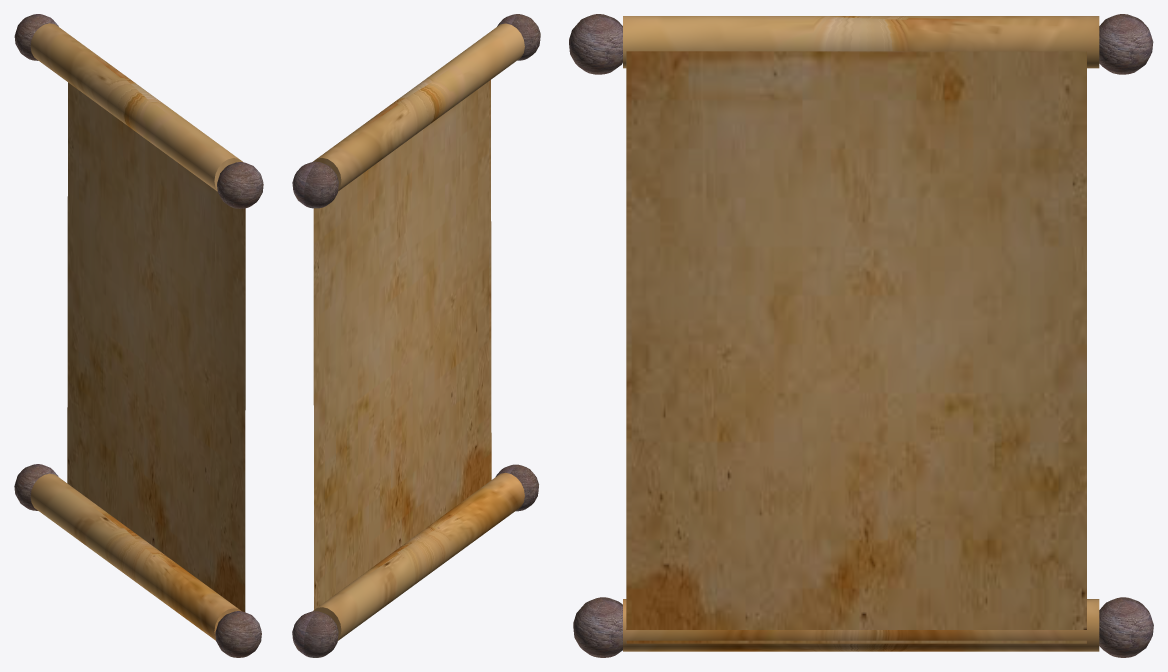
File: wall_scroll.FBX
3 views of the same model, side by side, from view 1: azimuth 30°, elevation 25°; view 2: azimuth 150°, elevation 25°; view 3: azimuth 270°, elevation 25° (orthographic). The views are drawn at different scales.
Visible parts, largest first — view 1: Plane001, Cylinder001, Cylinder003, Sphere003, Sphere001, Sphere004, Sphere002; view 2: Plane001, Cylinder003, Cylinder001, Sphere002, Sphere004, Sphere001, Sphere003; view 3: Plane001, Cylinder001, Cylinder003, Sphere004, Sphere001, Sphere002, Sphere003.
Part boxes in pixels (bbox=[...]): Plane001: bbox=[67, 82, 245, 611]; Cylinder001: bbox=[30, 23, 242, 191]; Cylinder003: bbox=[30, 473, 241, 640]; Sphere003: bbox=[215, 611, 261, 657]; Sphere001: bbox=[217, 162, 263, 208]; Sphere004: bbox=[14, 464, 58, 510]; Sphere002: bbox=[14, 14, 58, 60]; Plane001: bbox=[313, 80, 491, 609]; Cylinder003: bbox=[313, 473, 524, 640]; Cylinder001: bbox=[313, 23, 524, 191]; Sphere002: bbox=[292, 161, 338, 208]; Sphere004: bbox=[292, 611, 338, 657]; Sphere001: bbox=[497, 14, 540, 60]; Sphere003: bbox=[495, 464, 538, 511]; Plane001: bbox=[626, 51, 1086, 643]; Cylinder001: bbox=[623, 16, 1099, 68]; Cylinder003: bbox=[623, 599, 1099, 651]; Sphere004: bbox=[1099, 597, 1153, 657]; Sphere001: bbox=[569, 14, 622, 74]; Sphere002: bbox=[1099, 14, 1153, 74]; Sphere003: bbox=[573, 597, 622, 657].
Bounding box in the file's own units: 3.1 × 36.03 × 29.9.
2 materials, 2 textured.
